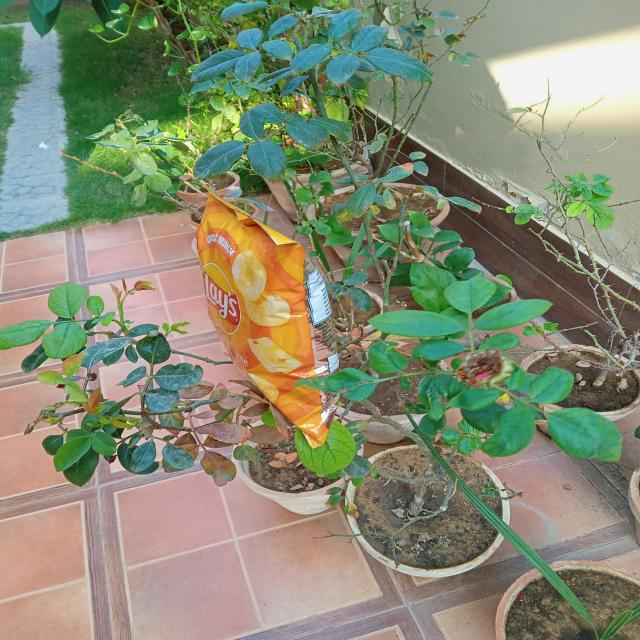Plastic: (201, 202, 341, 452)
